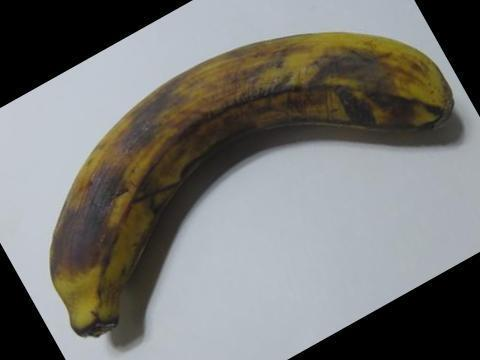rotten: (31, 21, 479, 359)
